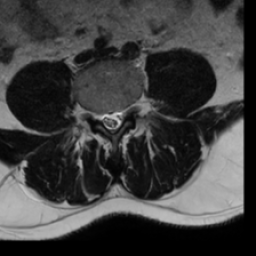CCS_normal: (108, 104, 116, 140)
LFS_normal: (124, 96, 134, 122)
LLS_normal: (116, 102, 124, 136)
RFS_normal: (91, 103, 100, 127)
RLS_normal: (100, 104, 108, 135)
